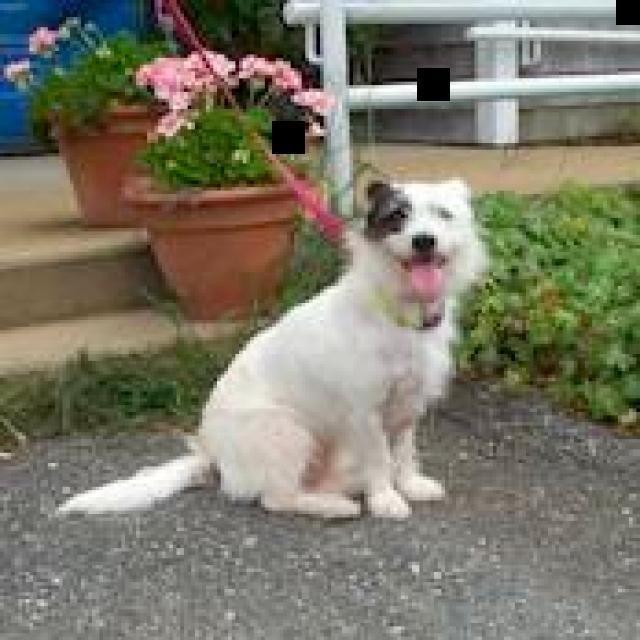adult_dog: (54, 179, 492, 523)
